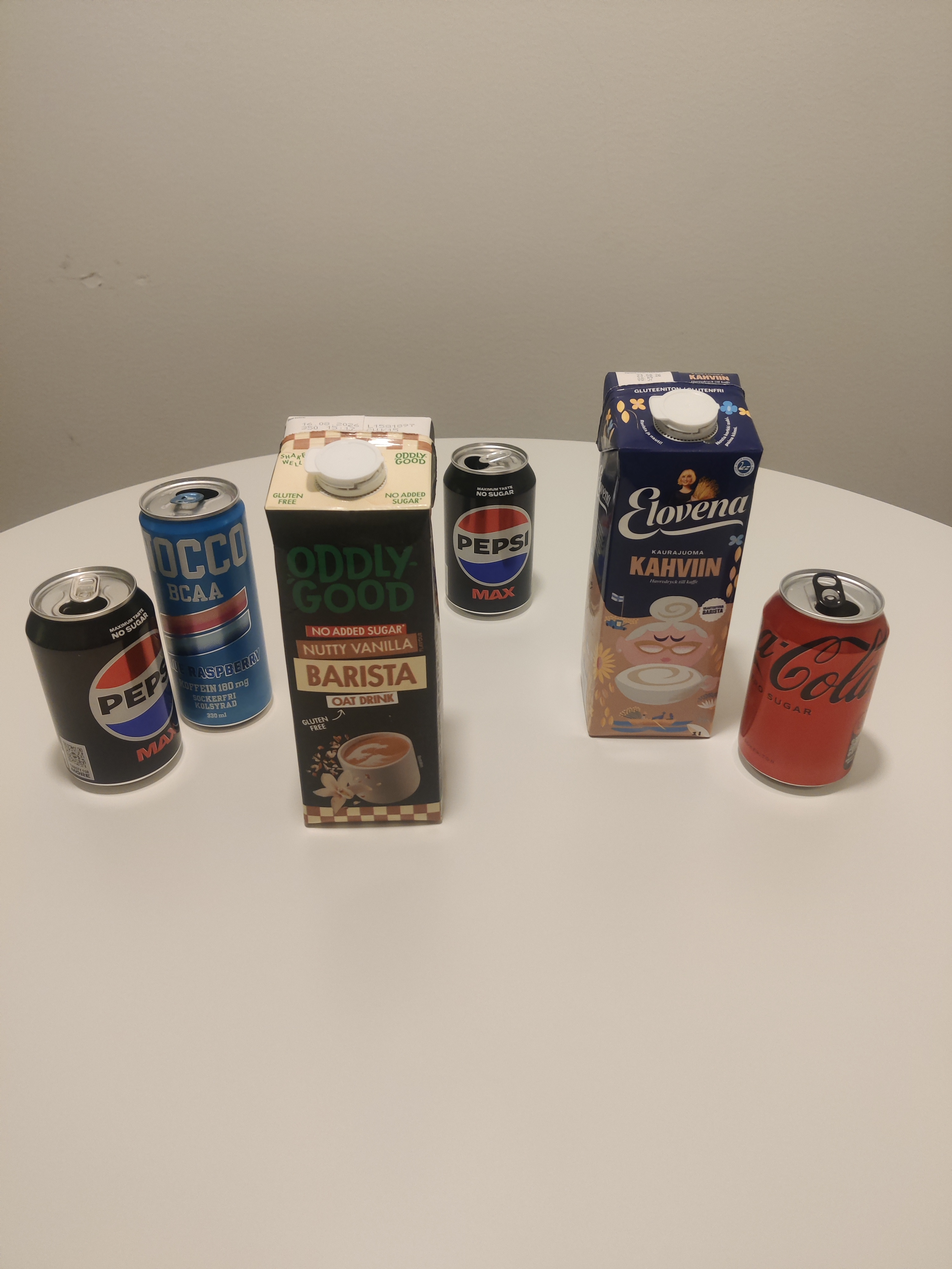Dryckeskartong: (243, 366, 467, 868), (574, 326, 763, 823)
Pantburk: (12, 518, 186, 849), (121, 460, 294, 761), (730, 550, 905, 847), (425, 397, 573, 660)
